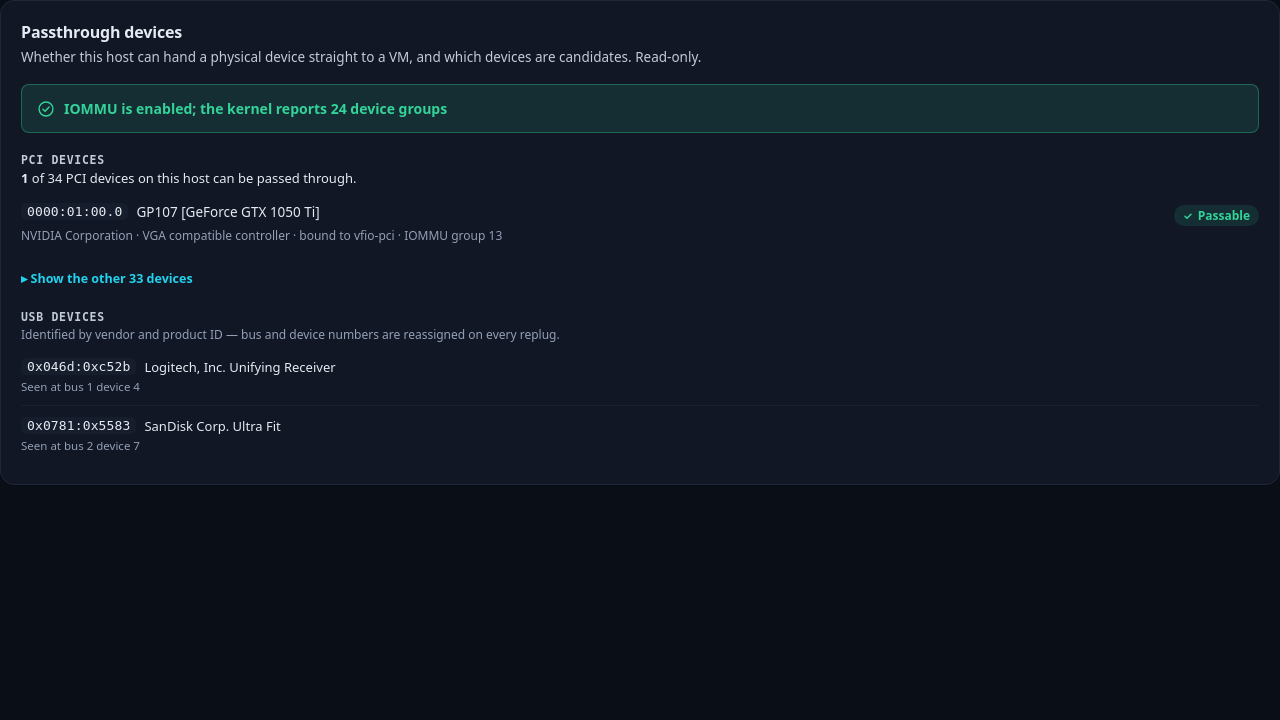
Scenario: HostDevices › leads with the count and holds the rest back when a host reports dozens of devices
The image size is (1280, 720).
Expected: the heading "Passthrough devices" is shown, 21,21 -> 182,43
Expected: the text "IOMMU is enabled; the kernel reports 24 device groups" is shown, 64,99 -> 447,118
Note: Held back, never dropped: every reason is still one click away.
Step 1. Click the button "▸ Show the other 33 devices" → (107,278), box 21,270 -> 193,287
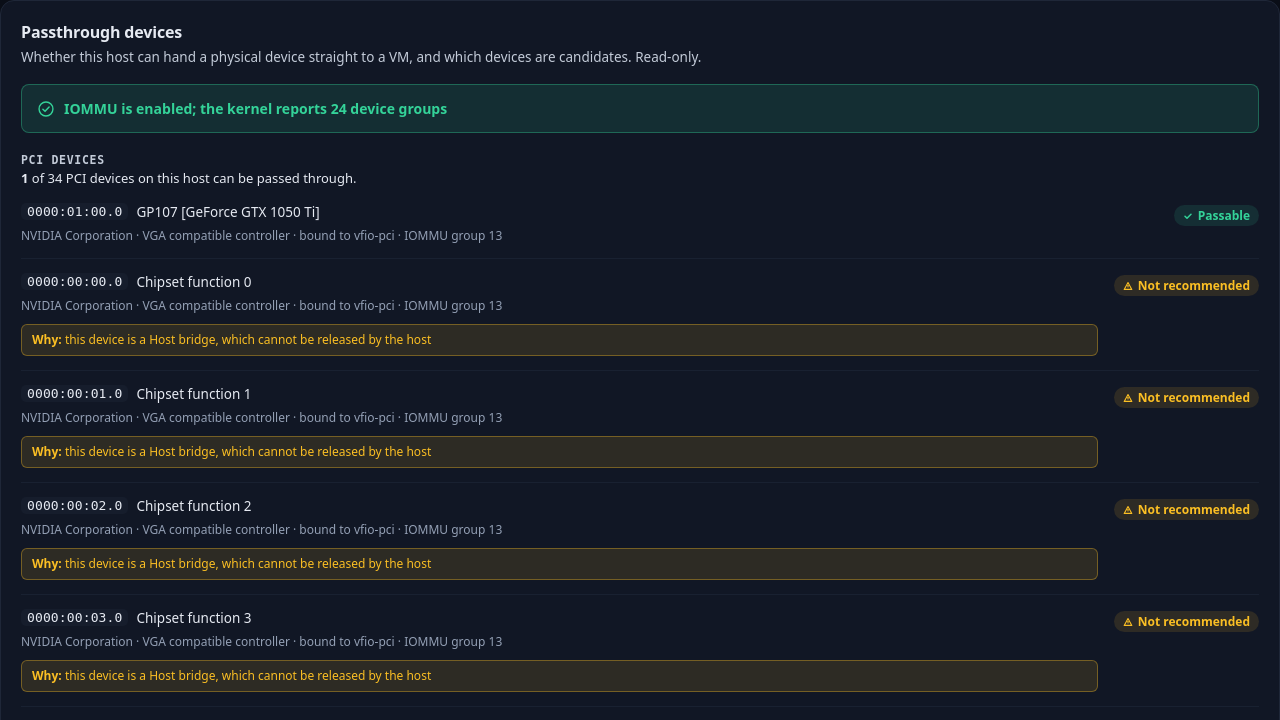
Expected: the text "Not recommended" is shown 33 times
